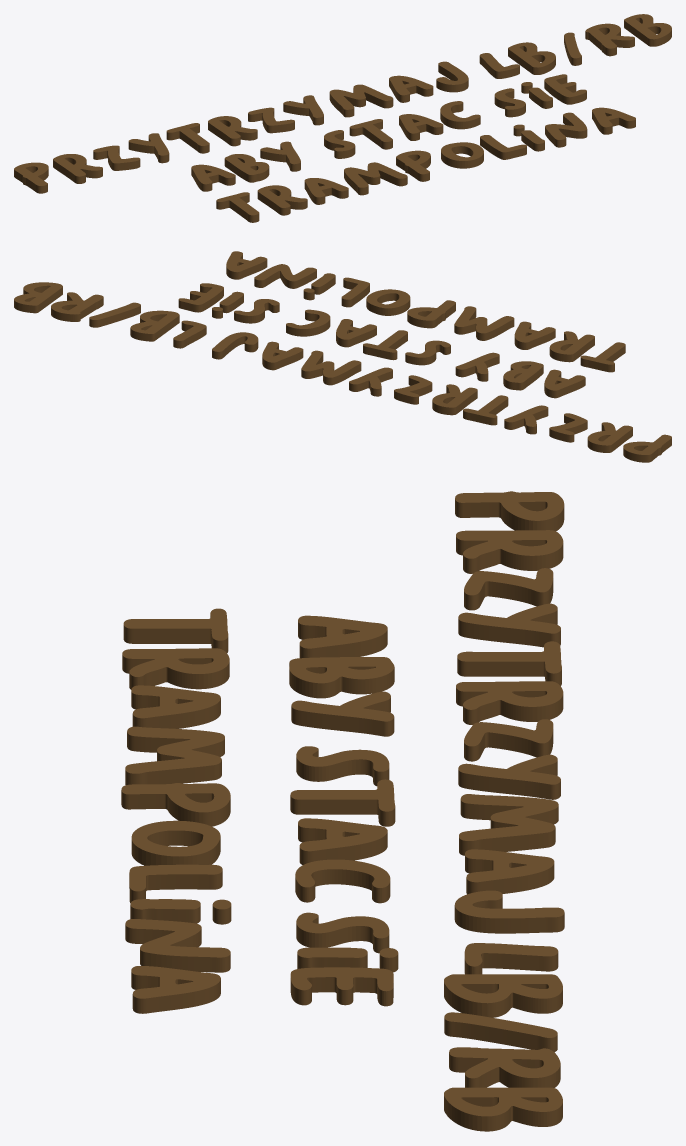
File: trampolina.fbx
The picture shows the model from 3 angles, top to bottom: view 1: azimuth 30°, elevation 25°; view 2: azimuth 150°, elevation 25°; view 3: azimuth 270°, elevation 25°; orthographic projection. The views are drawn at different scales.
Parts seen in each view (by area): view 1: trampolina; view 2: trampolina; view 3: trampolina.
Part boxes in pixels (left/top/right/bottom): trampolina: left=14, top=14, right=671, bottom=222; trampolina: left=14, top=251, right=671, bottom=462; trampolina: left=121, top=491, right=564, bottom=1131.
Bounding box in the file's own units: 887 × 10 × 266.
